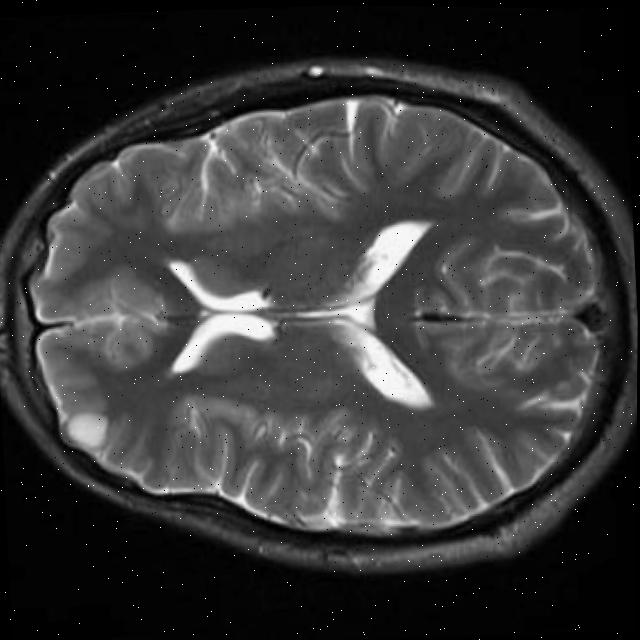NoTumor: (11, 69, 620, 561)
